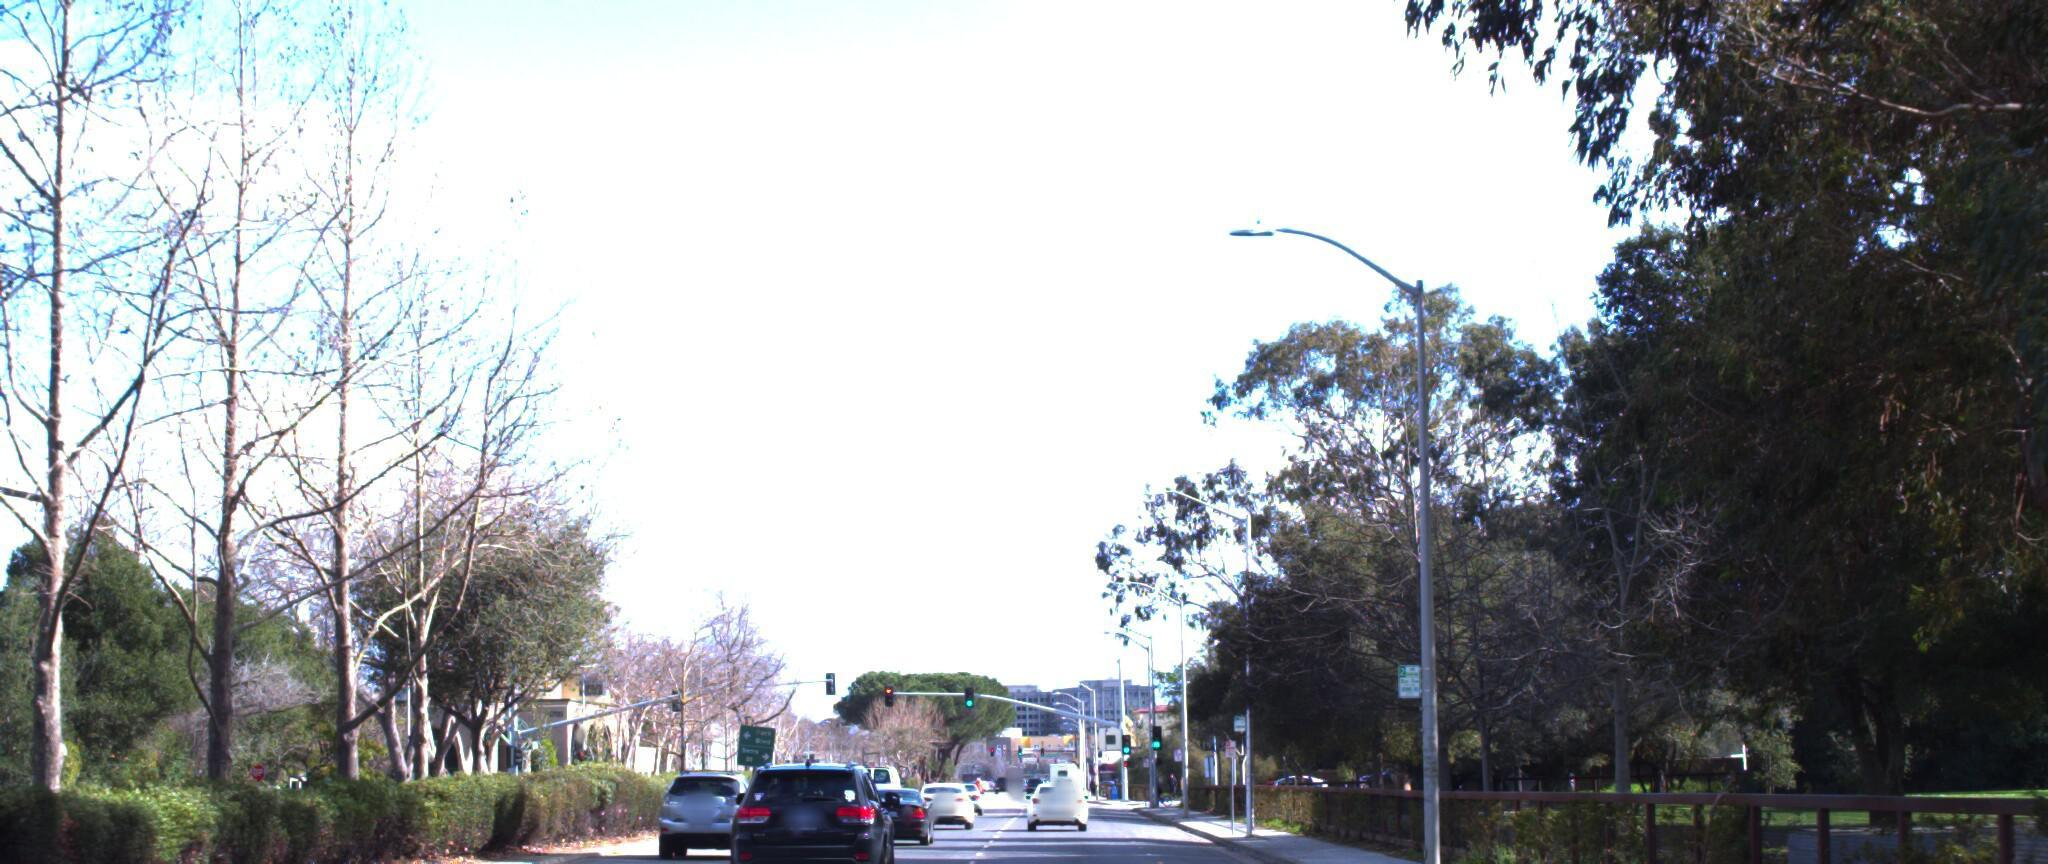car: (711, 754, 892, 864), (641, 767, 760, 864), (853, 777, 939, 856)
